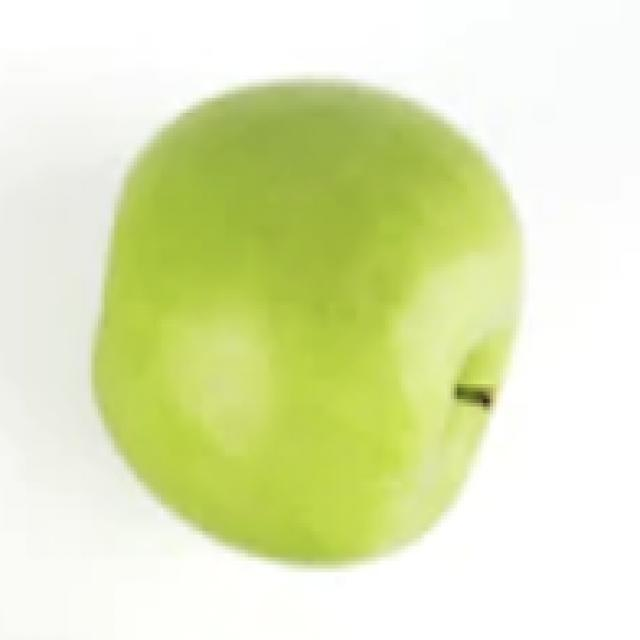Fresh Apple: (123, 95, 512, 545)
